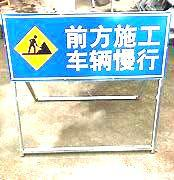sign: (5, 16, 164, 78)
